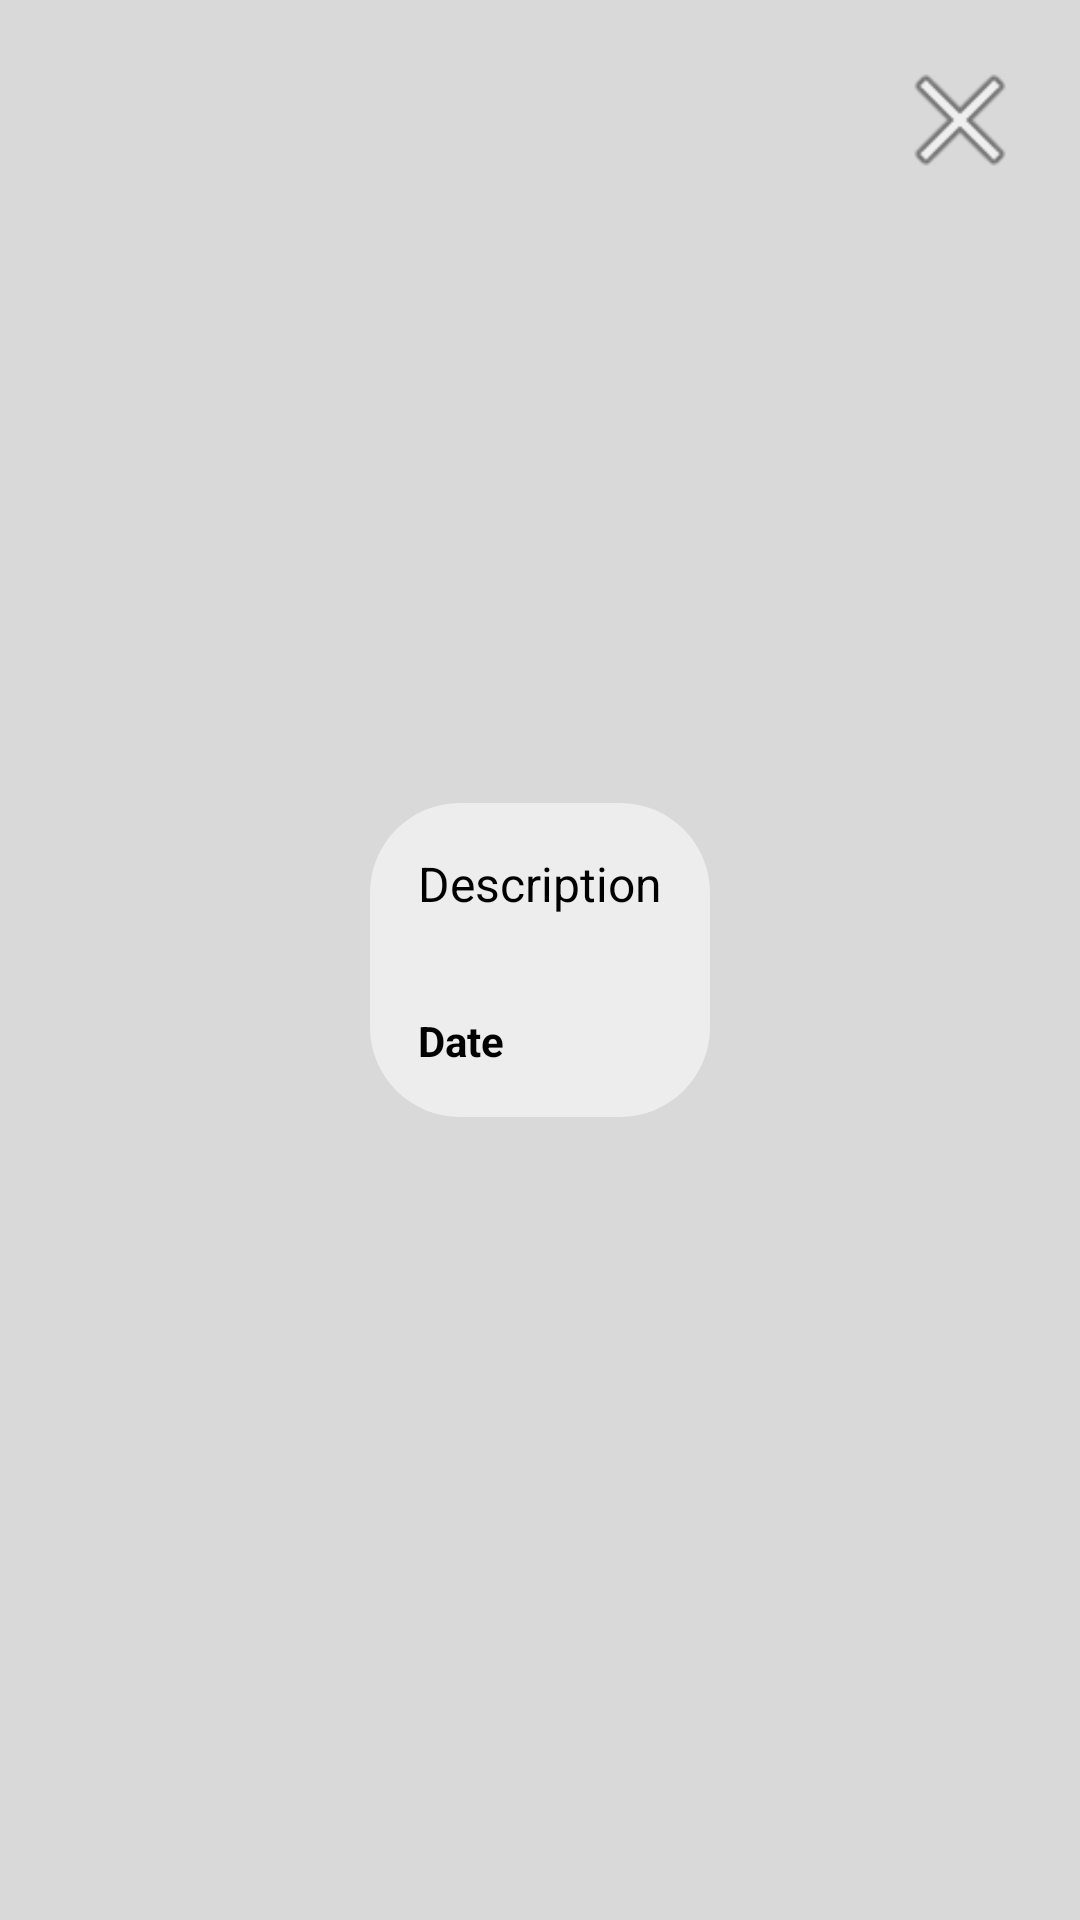

Screen size 1080 × 1920. Icon name, then its center in pixels as (x=x, y=y):
close clear cancel: (x=960, y=120)
